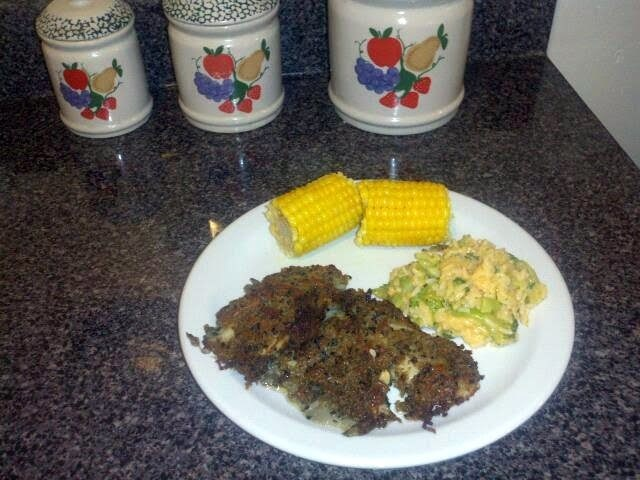background: (186, 128, 547, 328)
